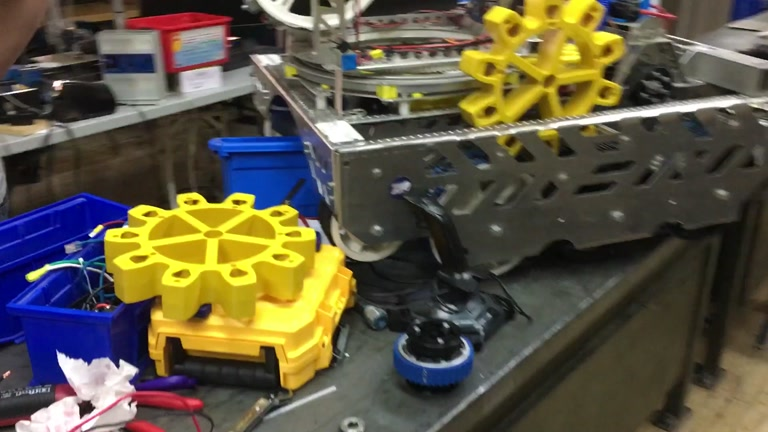gear: (103, 191, 315, 320), (457, 1, 626, 161)
